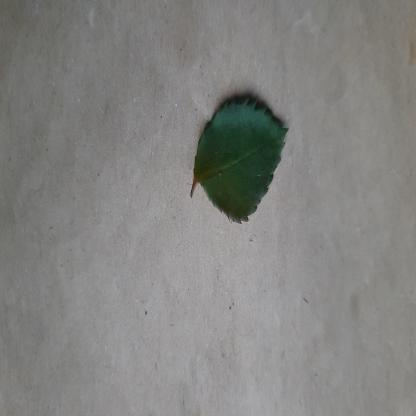normal: (193, 95, 290, 226)
